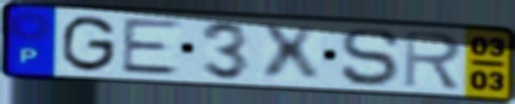3: (198, 19, 253, 82)
E: (118, 17, 185, 77)
G: (58, 14, 120, 74)
R: (402, 29, 465, 92)
S: (338, 27, 403, 88)
X: (256, 22, 324, 83)
